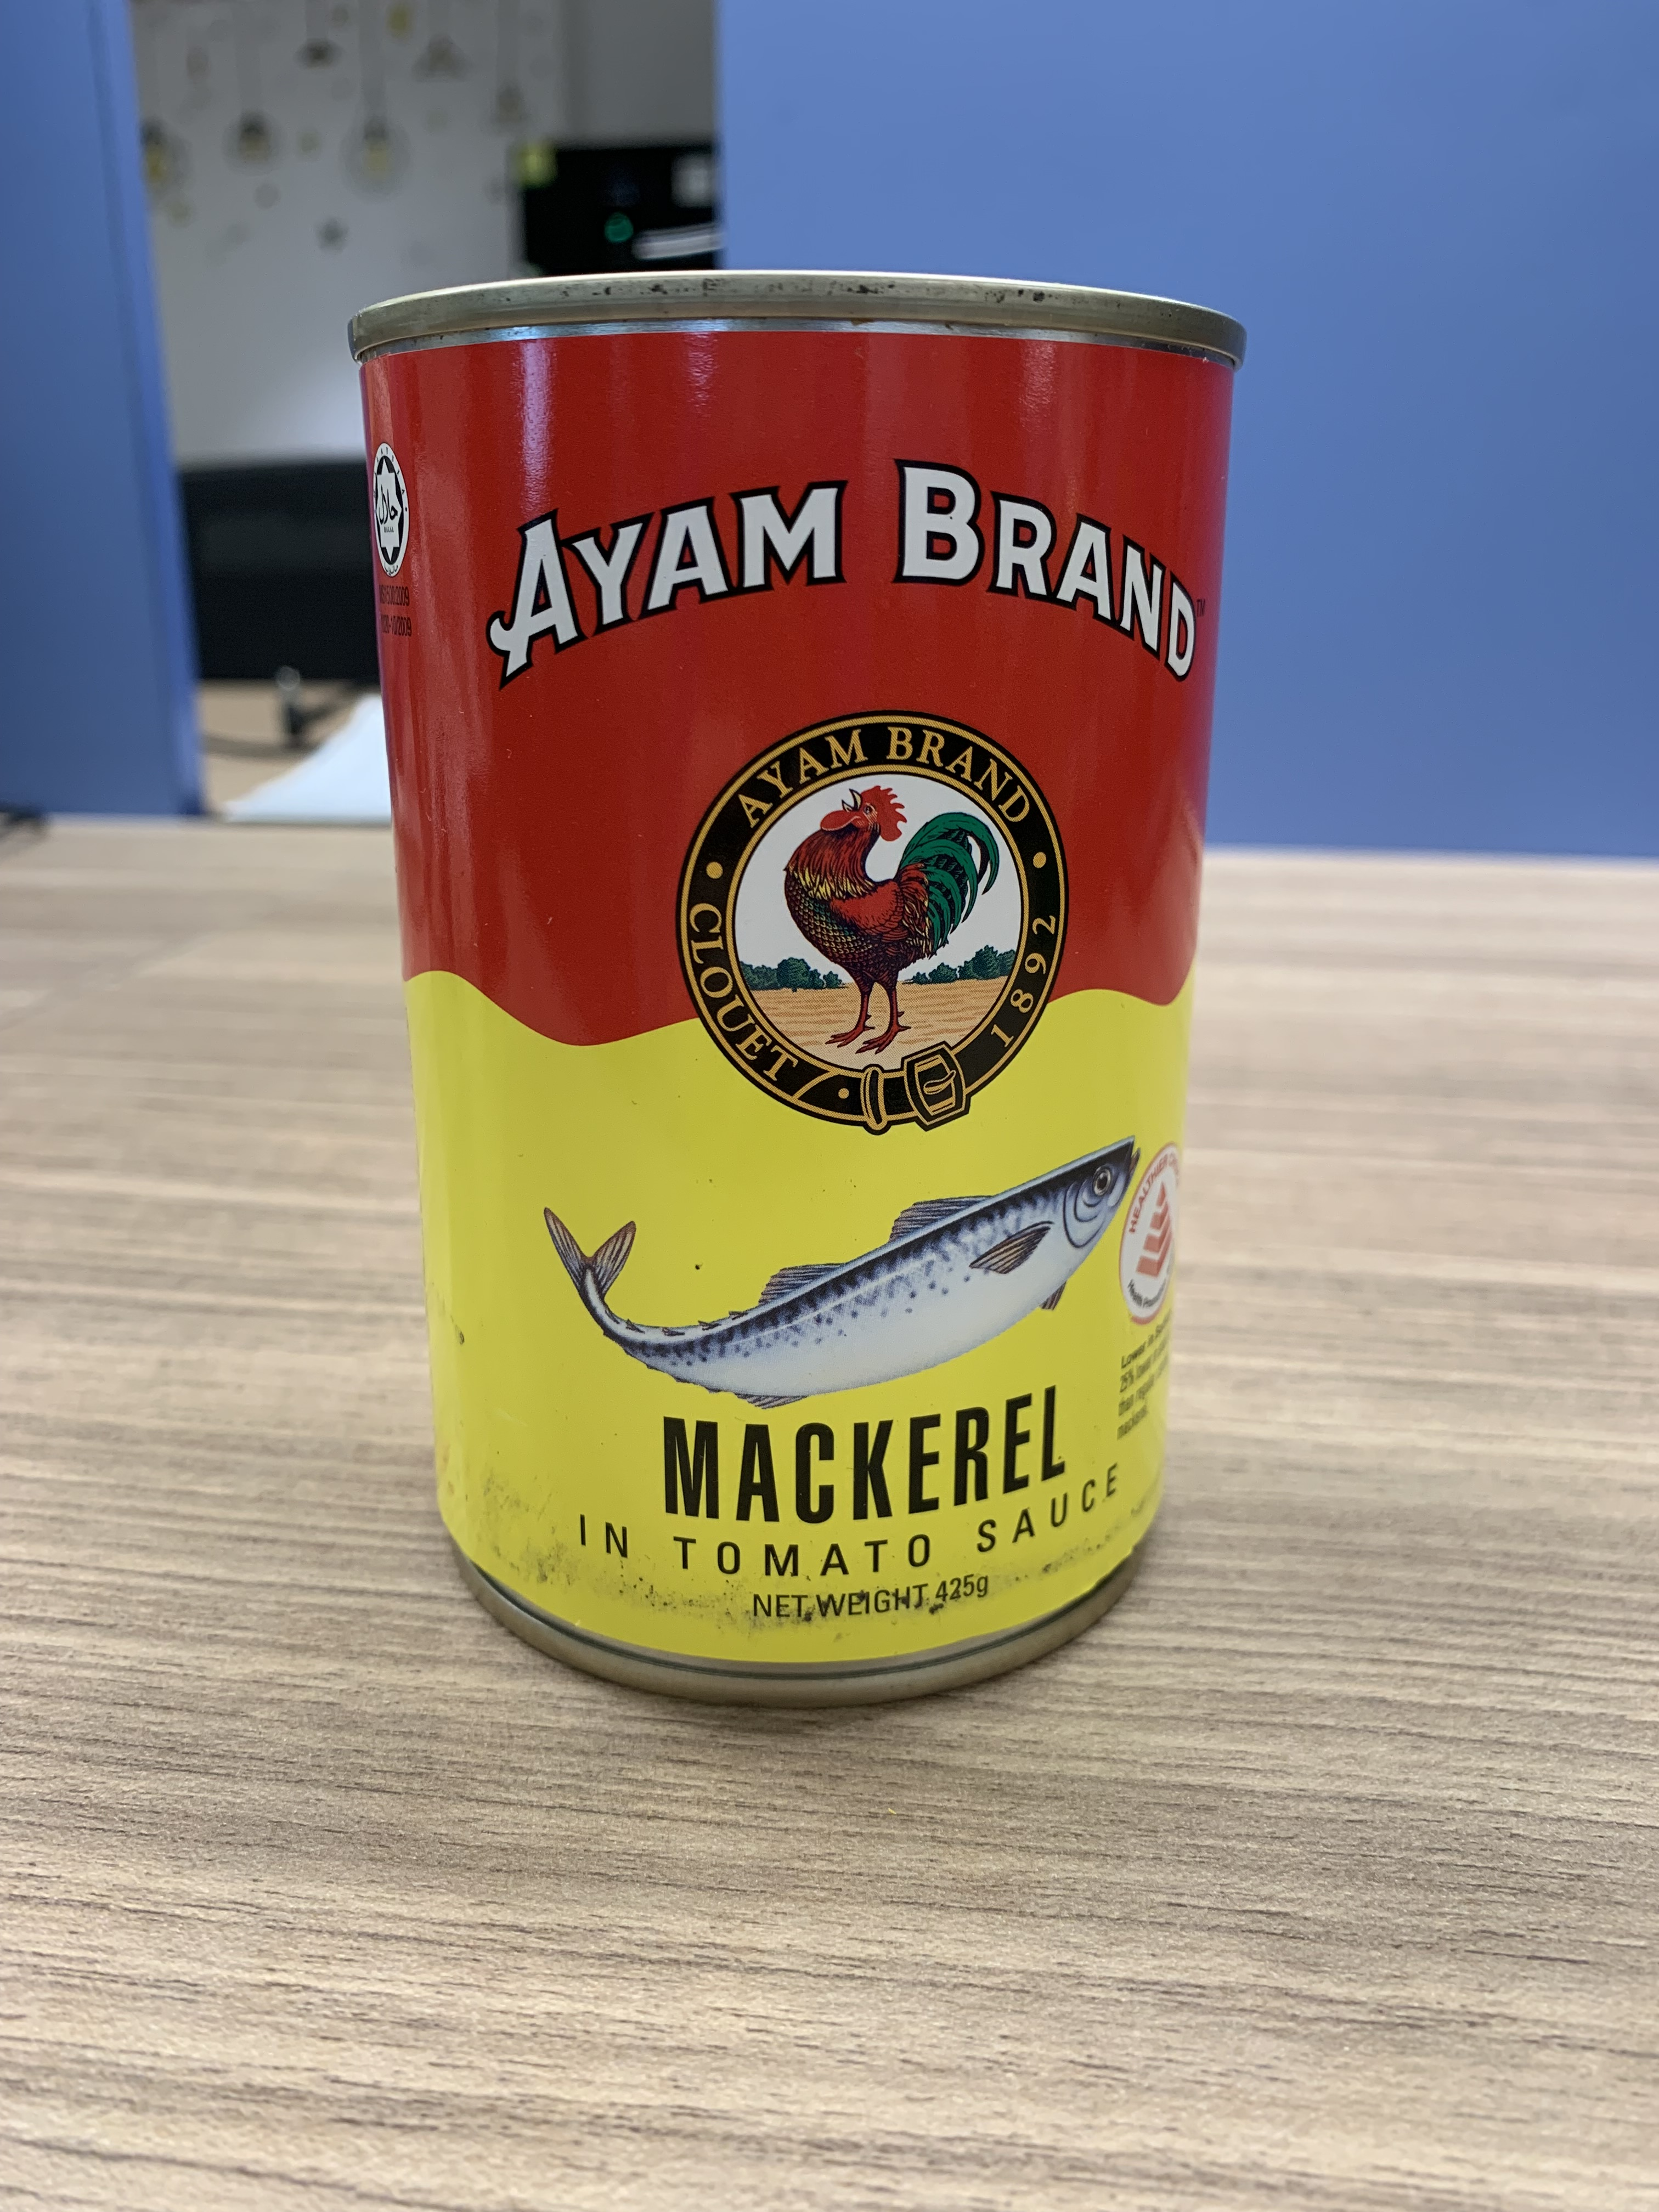sardines_400g-499g: (396, 327, 1168, 1637)
